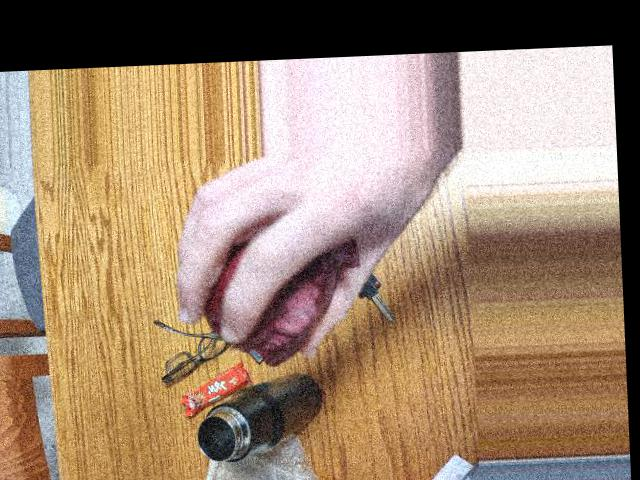onion: (196, 240, 324, 357)
